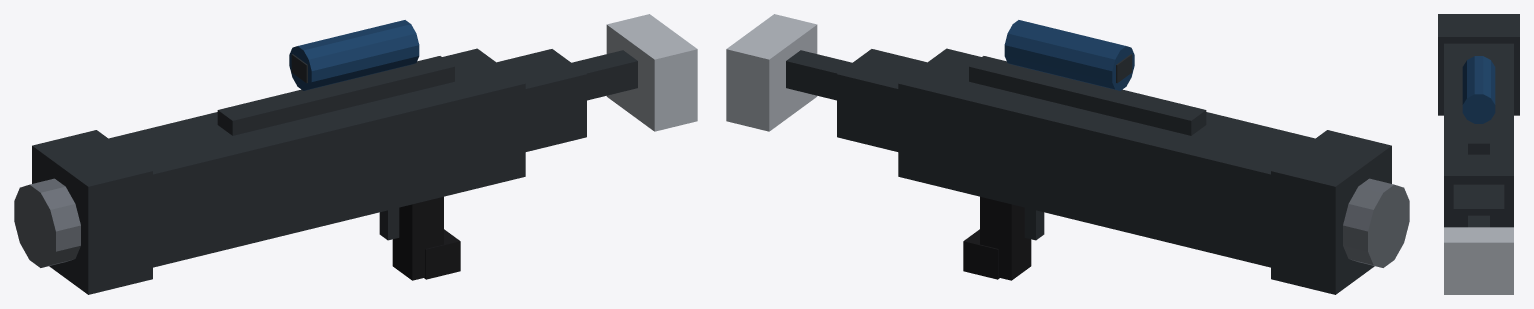
Rendered from laser_gun_blockout.obj.
3 views of the same model, side by side, from view 1: azimuth 30°, elevation 25°; view 2: azimuth 150°, elevation 25°; view 3: azimuth 270°, elevation 25° (orthographic). The views are drawn at different scales.
Visible parts, largest first — view 1: LaserGunBlockout; view 2: LaserGunBlockout; view 3: LaserGunBlockout.
Boxes of the visible parts, x1,y1,x2,y2 form: LaserGunBlockout: (14,14,697,294); LaserGunBlockout: (726,14,1409,294); LaserGunBlockout: (1438,14,1519,294).
Size of the model in its own units: 4.45 by 1.68 by 0.68.
